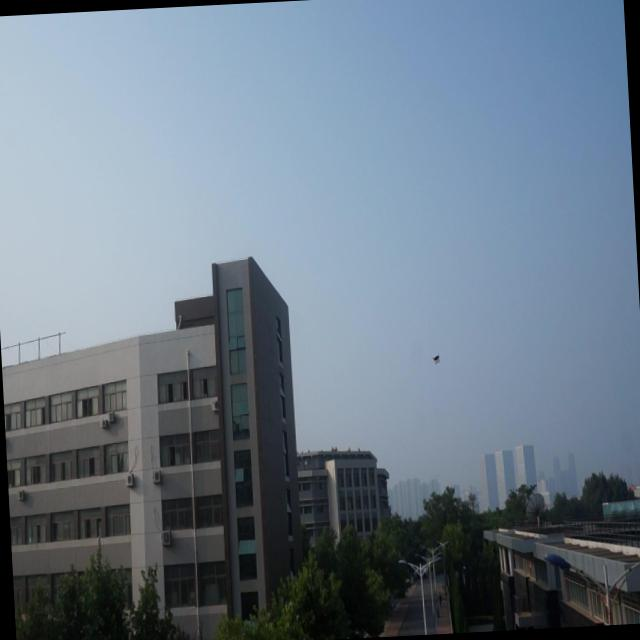drone: (428, 348, 444, 368)
